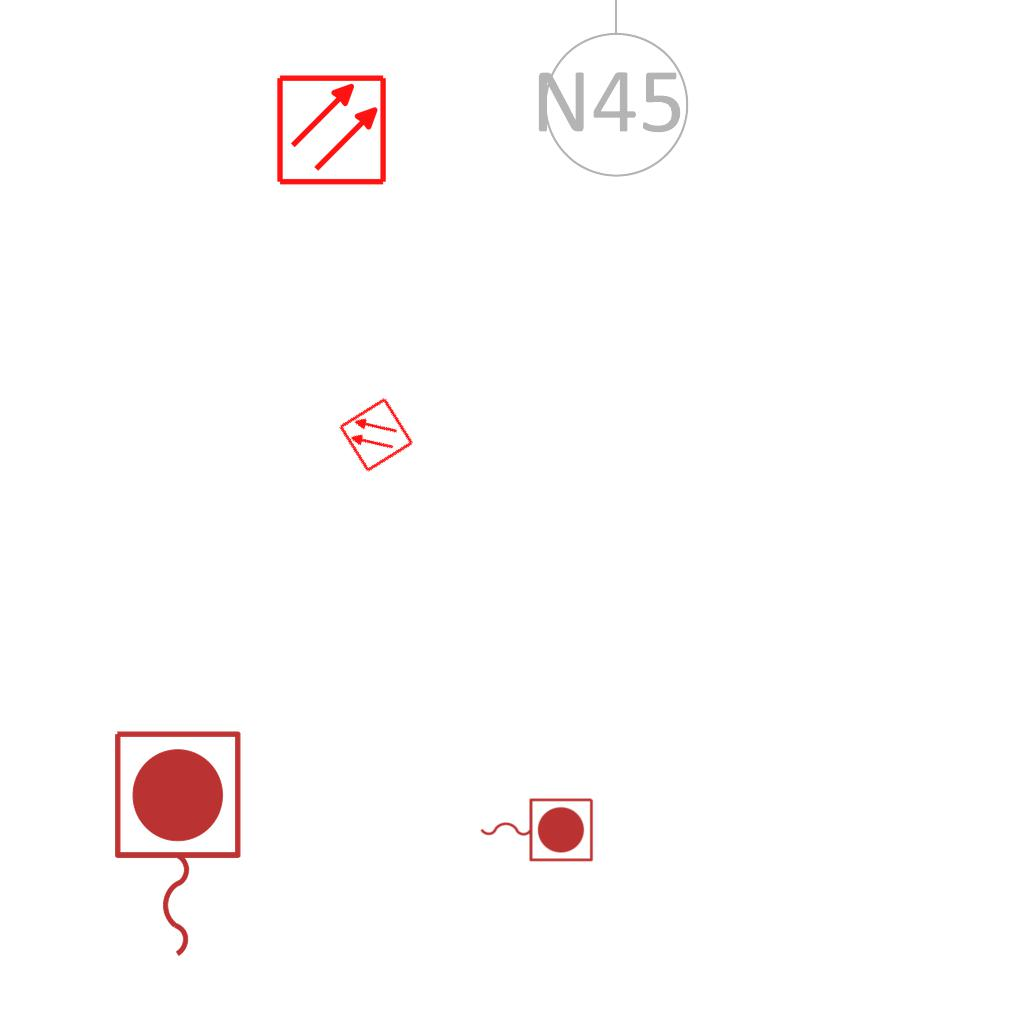RMO_Rauchmelder_optischer: (275, 73, 388, 186), (337, 396, 415, 474)
Zugtaster: (104, 723, 248, 967), (475, 793, 597, 865)
